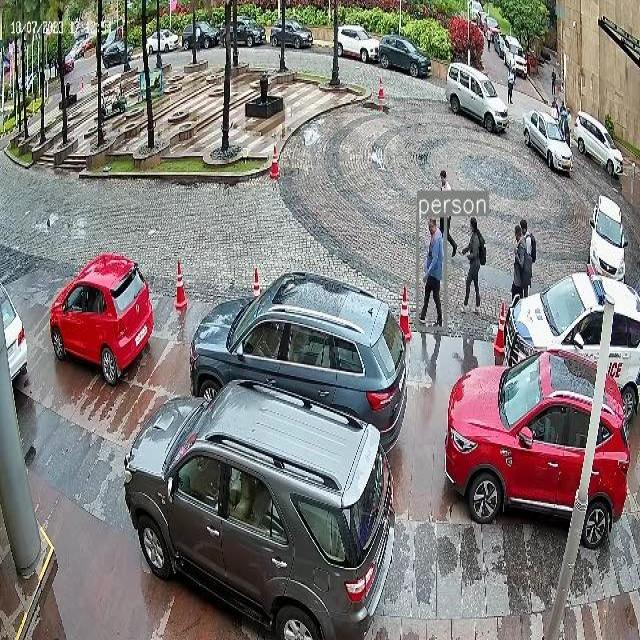person: (417, 212, 443, 329), (463, 217, 485, 316), (437, 174, 457, 262), (513, 219, 535, 297)
